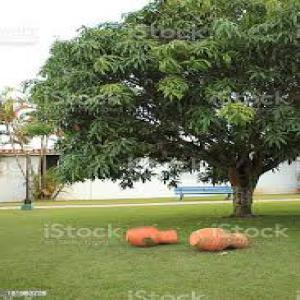Tree: (16, 1, 297, 217)
